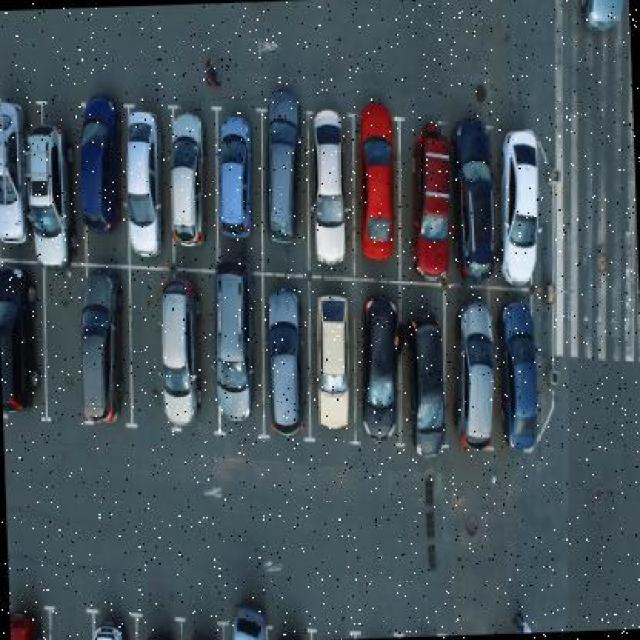Car: (498, 112, 559, 301), (303, 92, 361, 281), (349, 90, 407, 269), (407, 104, 460, 293), (450, 115, 506, 290), (361, 283, 412, 469), (258, 76, 307, 264), (455, 299, 506, 478), (496, 300, 549, 464), (309, 286, 358, 457), (75, 67, 126, 230), (404, 306, 455, 466), (24, 124, 76, 280), (263, 279, 306, 458), (84, 269, 130, 430), (1, 266, 46, 429), (126, 107, 169, 273), (217, 267, 260, 432), (163, 284, 207, 444), (214, 110, 260, 252), (167, 106, 209, 258), (1, 95, 27, 250), (232, 585, 275, 640), (10, 599, 50, 640), (85, 608, 131, 640)
Empty: (46, 278, 90, 429), (130, 286, 166, 435)
